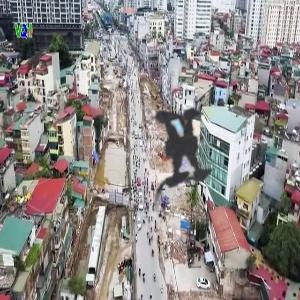drone: (85, 44, 283, 242)
